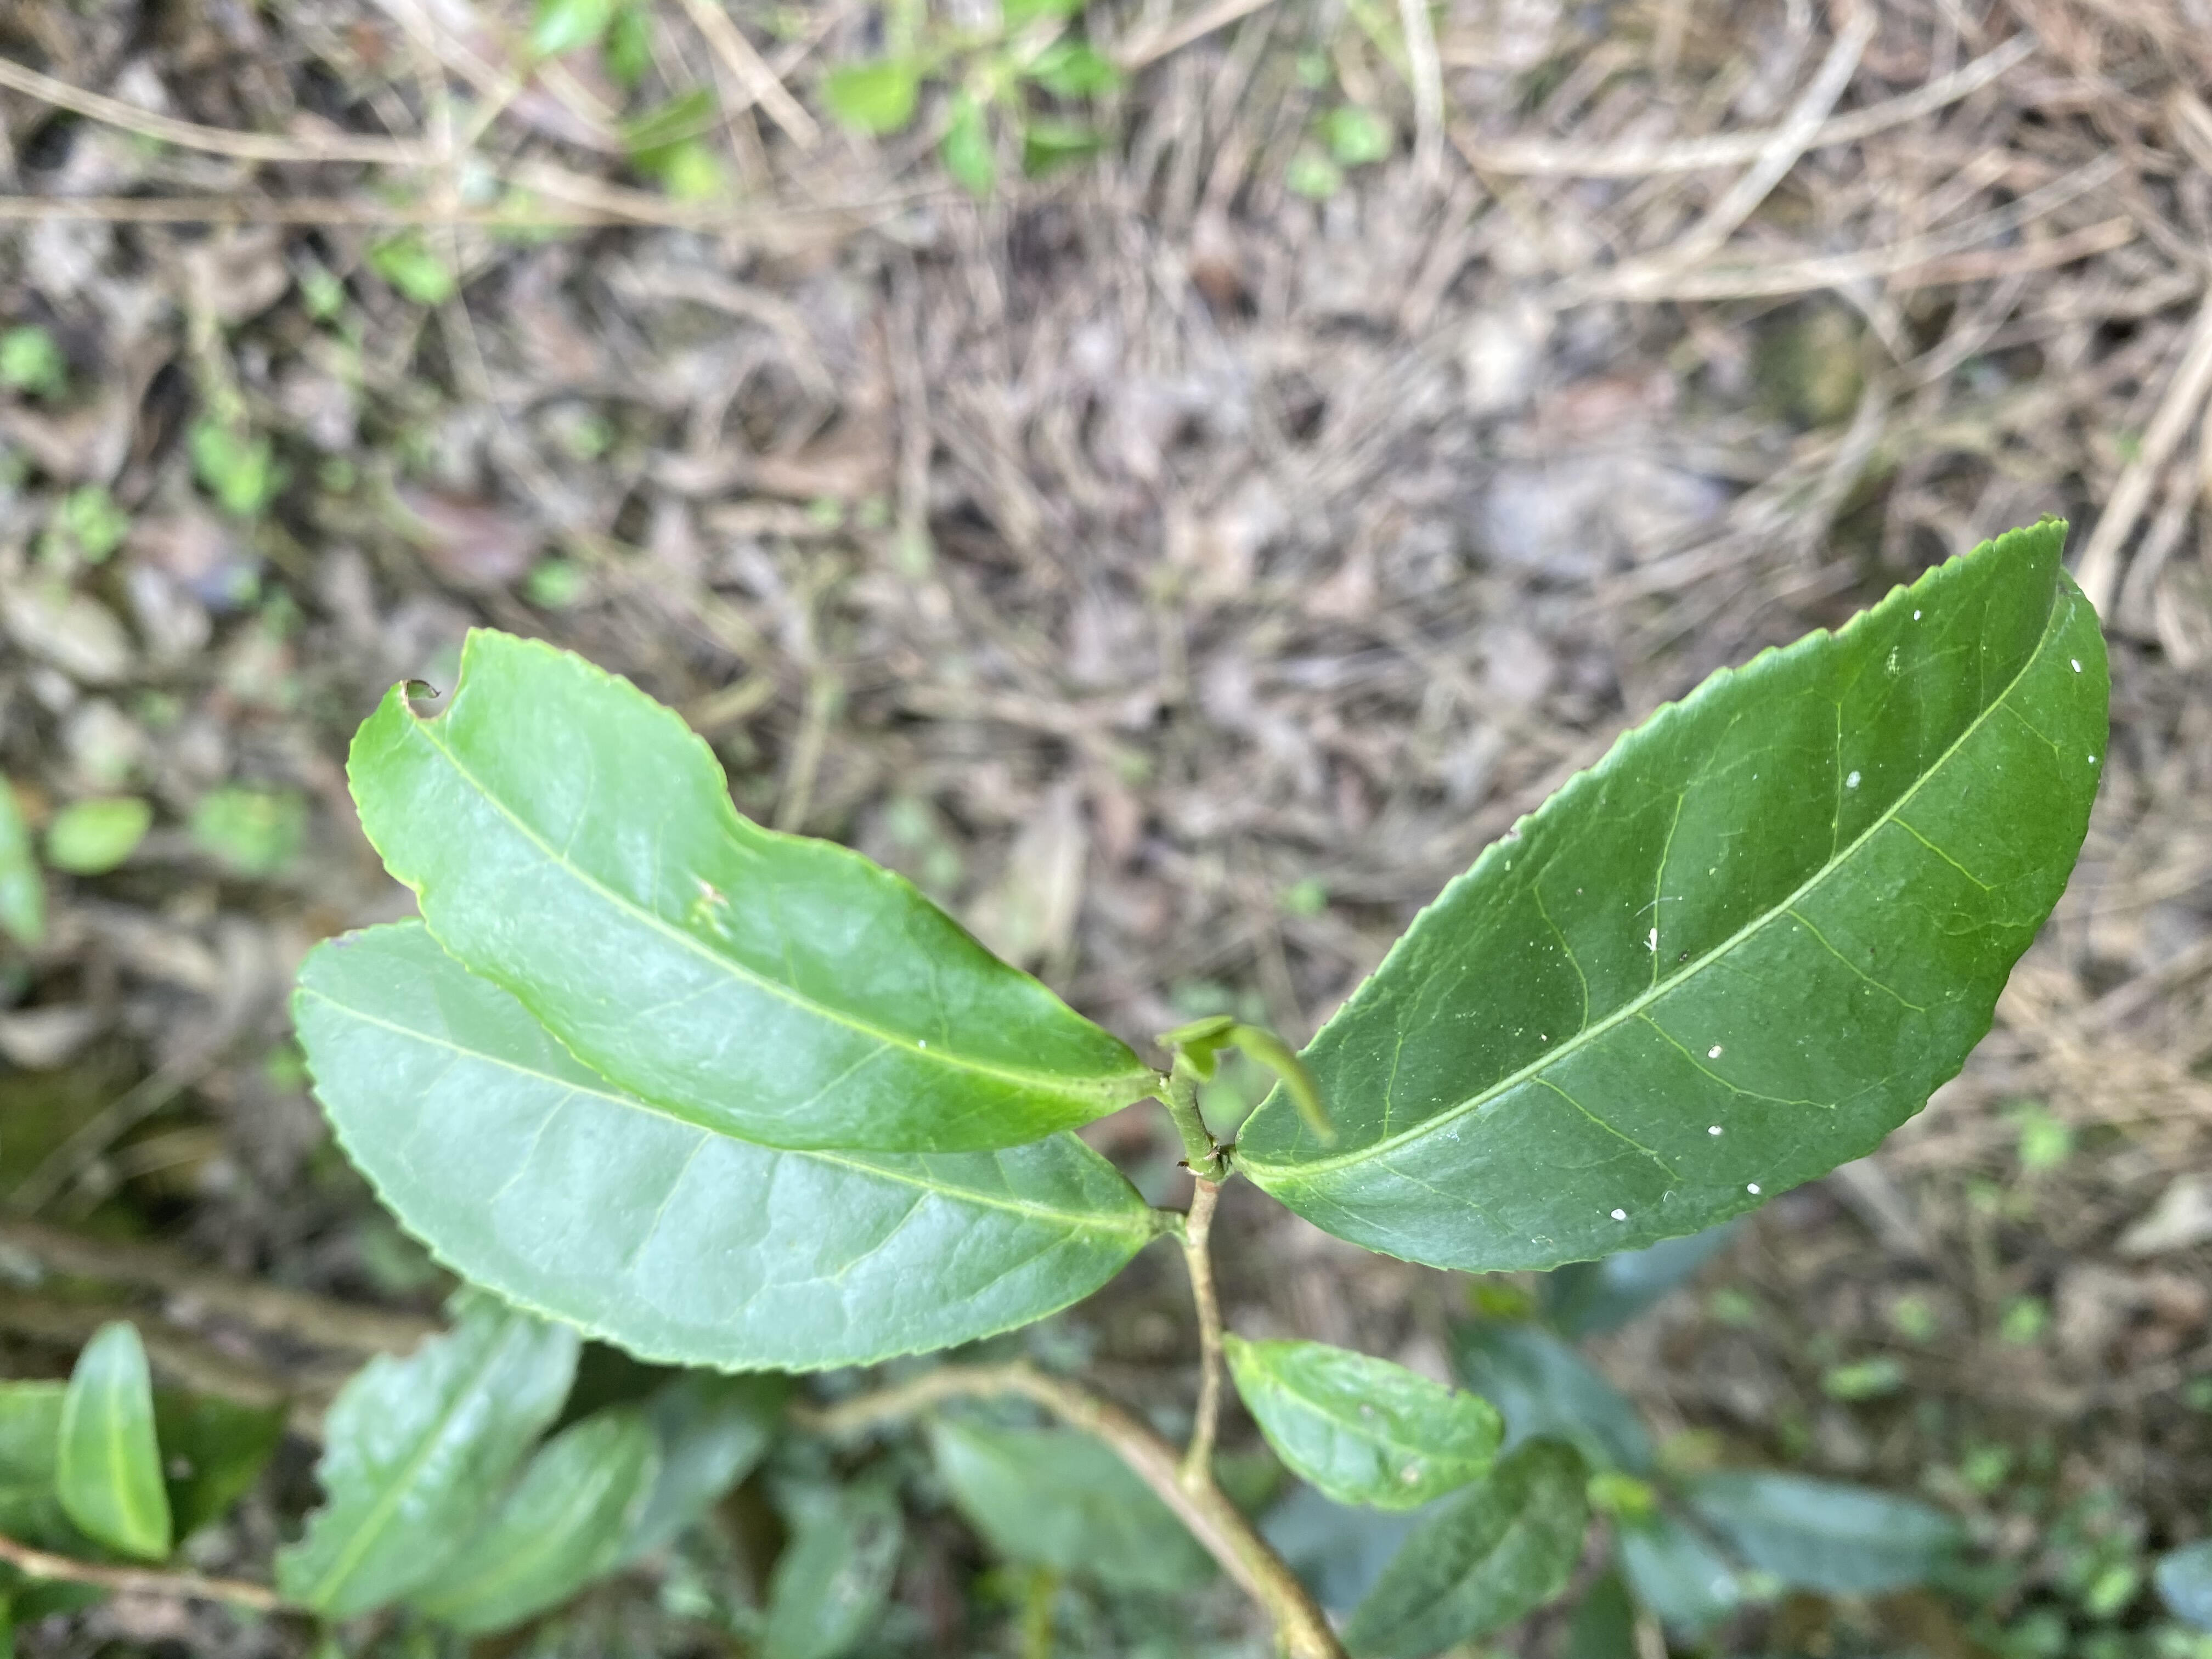chihuo_low: (343, 624, 1160, 1152)
healthy: (289, 917, 1144, 1377)
